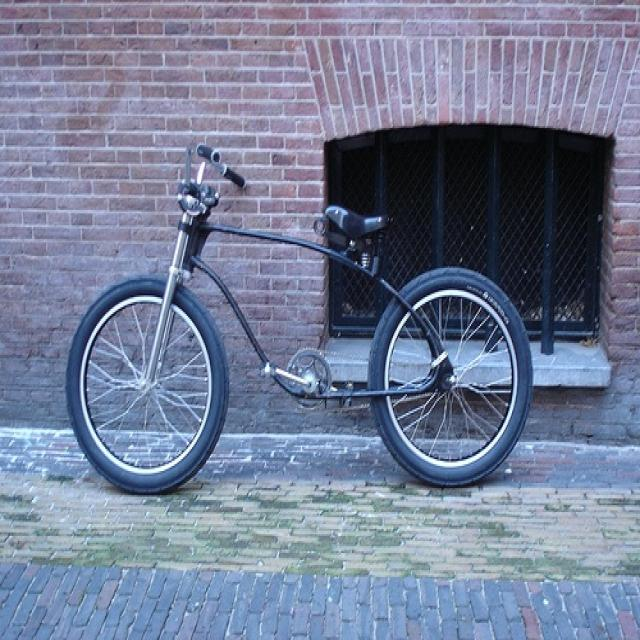bicycle: (61, 138, 538, 493)
